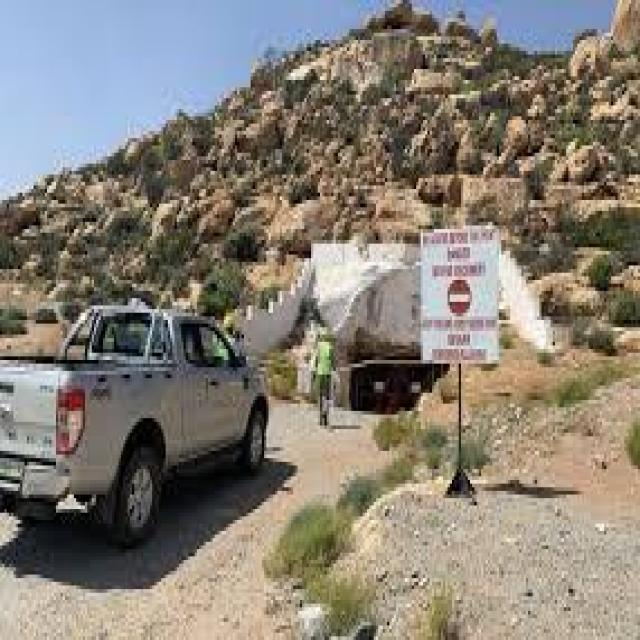light_vehicle: (0, 298, 298, 553)
